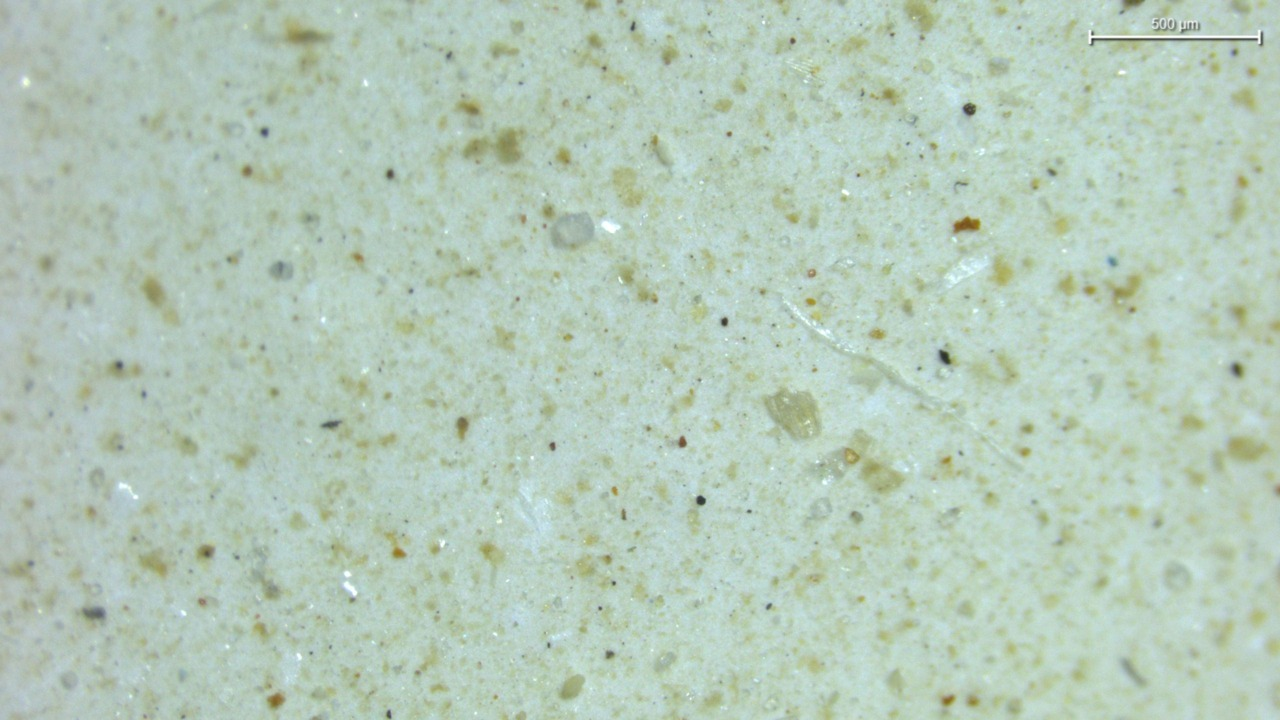microplastic_fragment: (764, 388, 822, 439), (550, 213, 595, 248)
